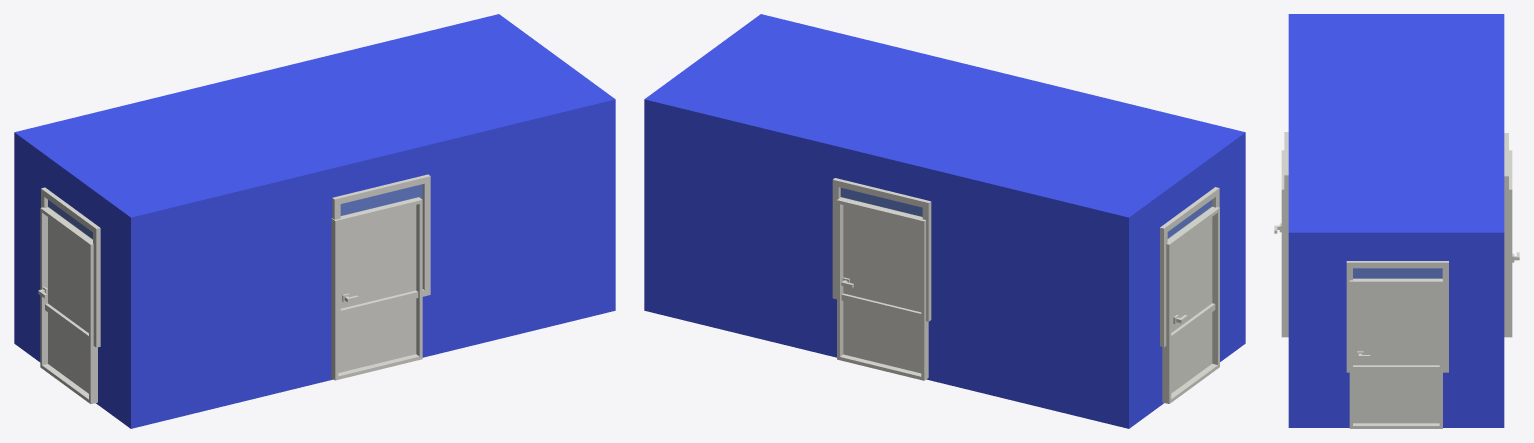
File: container.glb
3 views of the same model, side by side, from view 1: azimuth 30°, elevation 25°; view 2: azimuth 150°, elevation 25°; view 3: azimuth 270°, elevation 25° (orthographic). The views are drawn at different scales.
Parts seen in each view (by area): view 1: Wall_Front_Window, Roof_V1, Wall_Front_V1, Wall_Front_Door, Wall_Left_Door, Wall_Left_Window, Wall_Left_V1; view 2: Wall_Back_Door, Roof_V1, Wall_Back_Window, Wall_Left_V1, Wall_Left_Door, Wall_Left_Window, Wall_Back_V1; view 3: Roof_V1, Wall_Right_V1, Wall_Right_Window, Wall_Right_Door, Wall_Back_Door, Wall_Front_Door, Wall_Front_Window, Wall_Back_Window.
Part boxes in pixels (x1,y1,x2,y2): Wall_Front_Window: (131,99,615,428); Roof_V1: (14,14,614,217); Wall_Front_V1: (131,160,451,428); Wall_Front_Door: (135,191,422,380); Wall_Left_Door: (38,188,130,426); Wall_Left_Window: (14,132,114,362); Wall_Left_V1: (48,165,130,428); Wall_Back_Door: (837,151,1128,428); Roof_V1: (645,14,1245,217); Wall_Back_Window: (644,99,931,357); Wall_Left_V1: (1137,132,1245,412); Wall_Left_Door: (1162,153,1245,403); Wall_Left_Window: (1129,182,1219,428); Wall_Back_V1: (778,156,997,388); Roof_V1: (1288,14,1504,232); Wall_Right_V1: (1288,232,1504,427); Wall_Right_Window: (1288,232,1504,427); Wall_Right_Door: (1349,232,1504,428); Wall_Back_Door: (1504,150,1519,337); Wall_Front_Door: (1274,150,1288,337); Wall_Front_Window: (1284,132,1288,284); Wall_Back_Window: (1504,133,1508,285).
Size of the model in its own units: 6.34 by 2.5 by 2.85.
